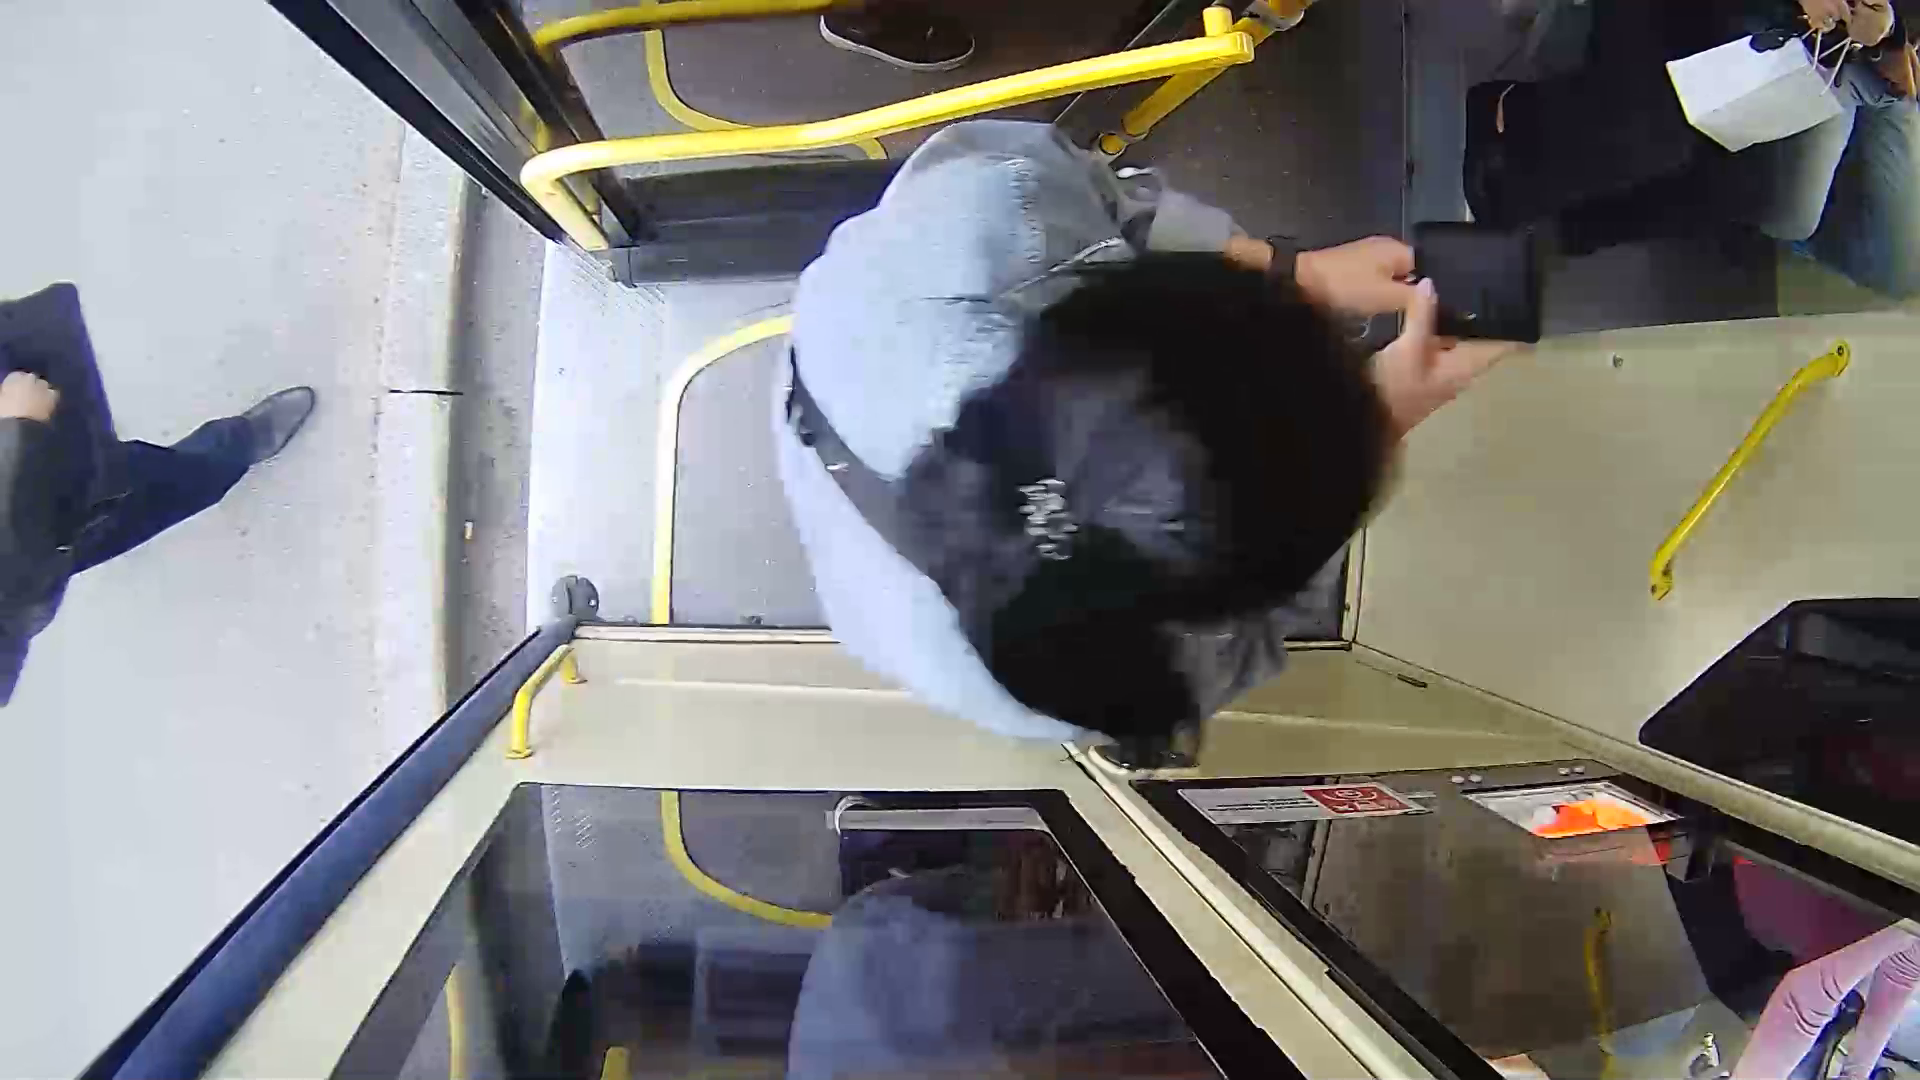person: (721, 100, 1614, 804)
